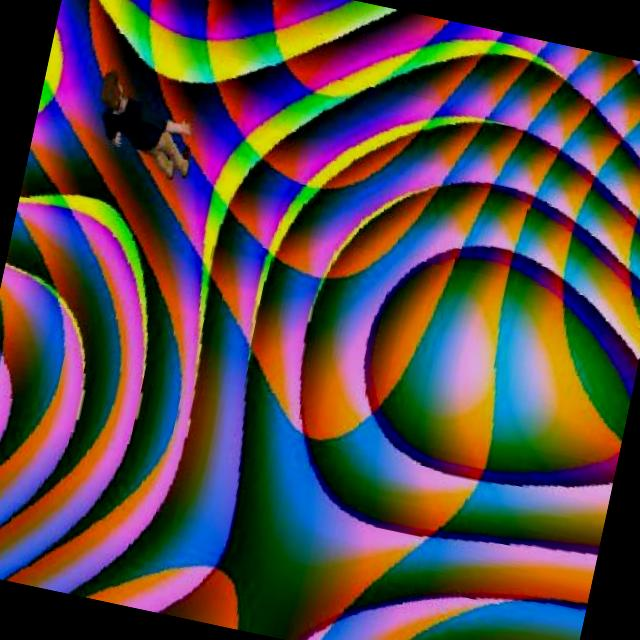Person: (80, 66, 207, 192)
